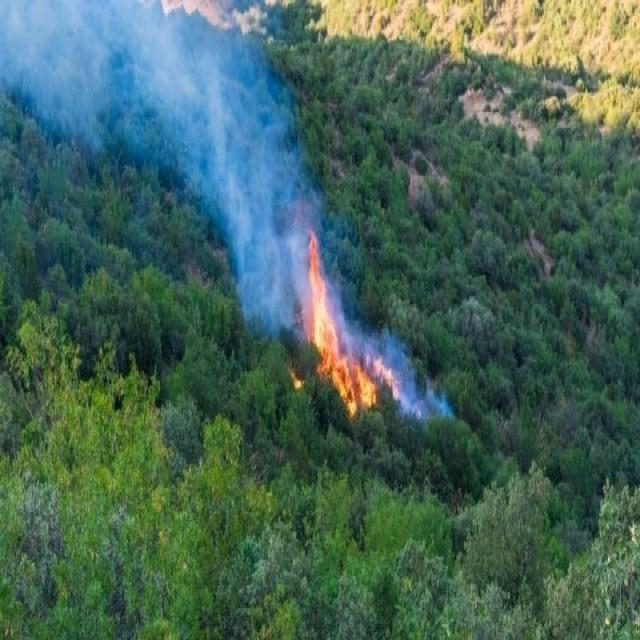Fire: (299, 232, 375, 424), (370, 343, 416, 413)
Smoke: (120, 0, 338, 315)
